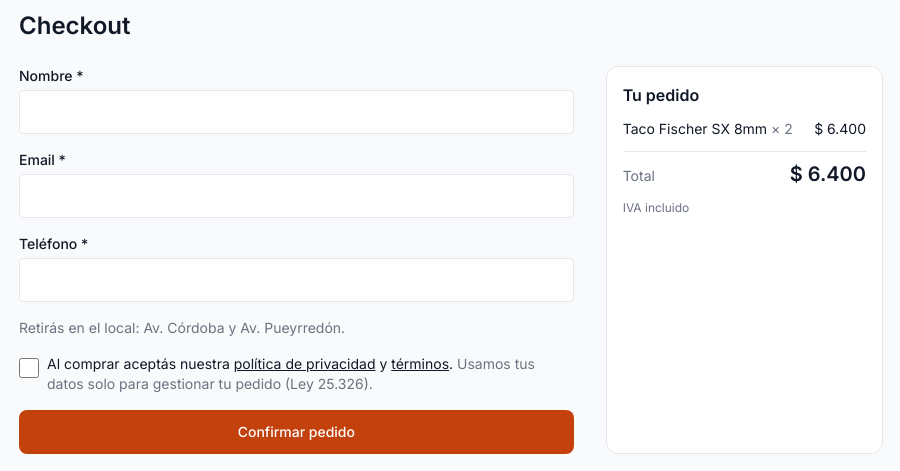
it: CheckoutPage — los estados de entrada (D4/D8) › tras un submit exitoso simulado → CheckoutConfirmation y el formulario sale del DOM
Expected: the button "Confirmar pedido" is shown, [19,410,574,454]
Type "Ana Gómez" into the field labelled "Nombre *" at [296, 112], box [19,90,574,134]
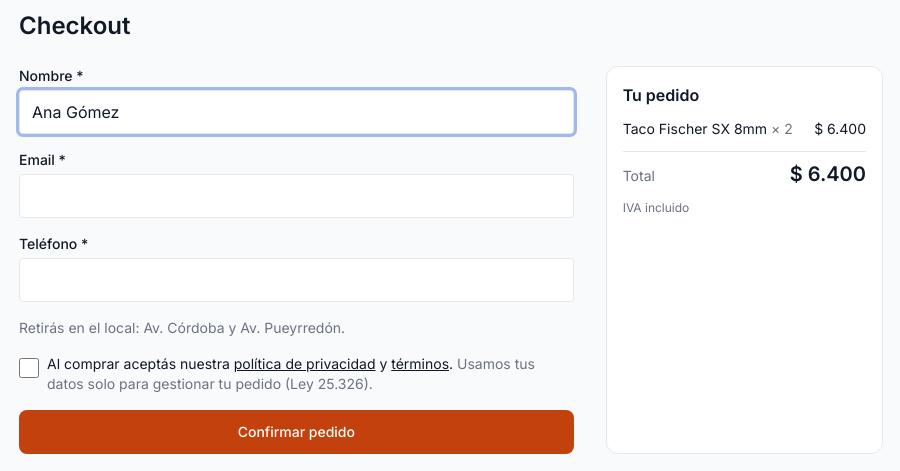
Type "ana@example.com" into the field labelled "Email *" at [296, 196], box [19,174,574,218]
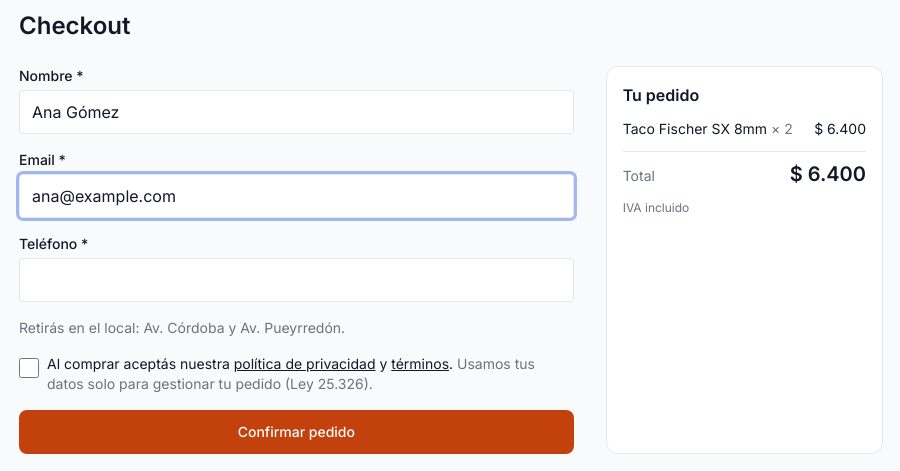
Type "+54 9 11 5555 5555" into the field labelled "Teléfono *" at [296, 280], box [19,258,574,302]
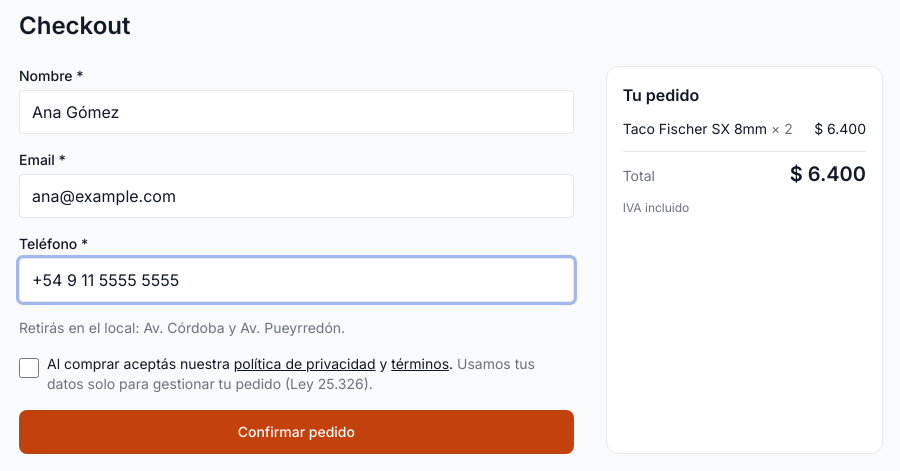
Click the checkbox at [29, 368], box [19,358,39,378]
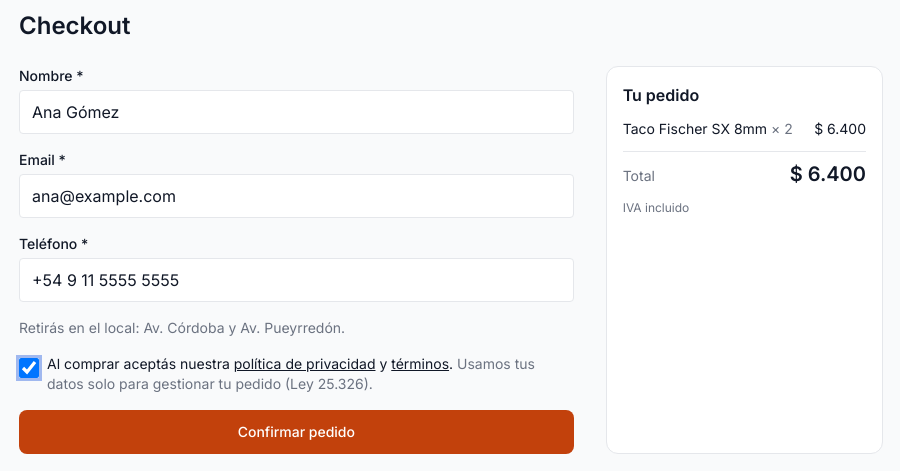
Click the button "Confirmar pedido" at [296, 432], box [19,410,574,454]
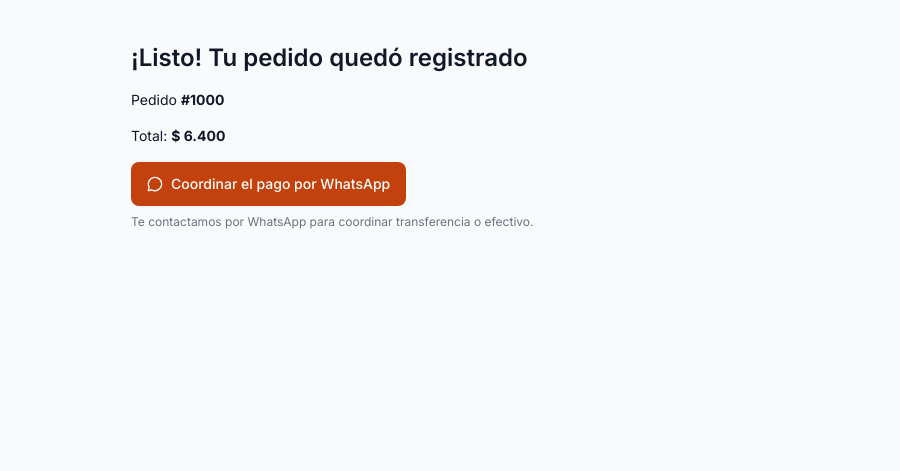
Expected: the heading "¡Listo! Tu pedido quedó registrado" is shown, [131,43,528,72]
Expected: the button "Confirmar pedido" is gone
